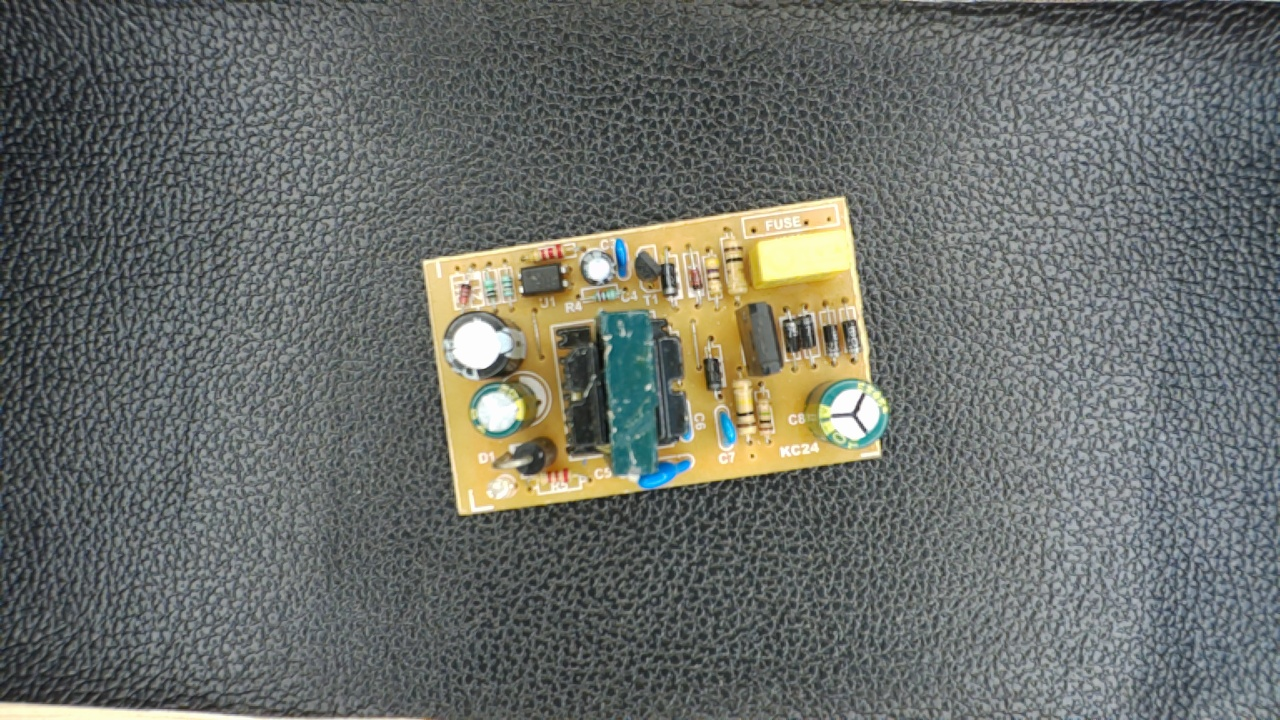hv_capacitor: (803, 375, 891, 452)
mov: (623, 455, 696, 491)
optocoupler: (512, 260, 570, 299)
